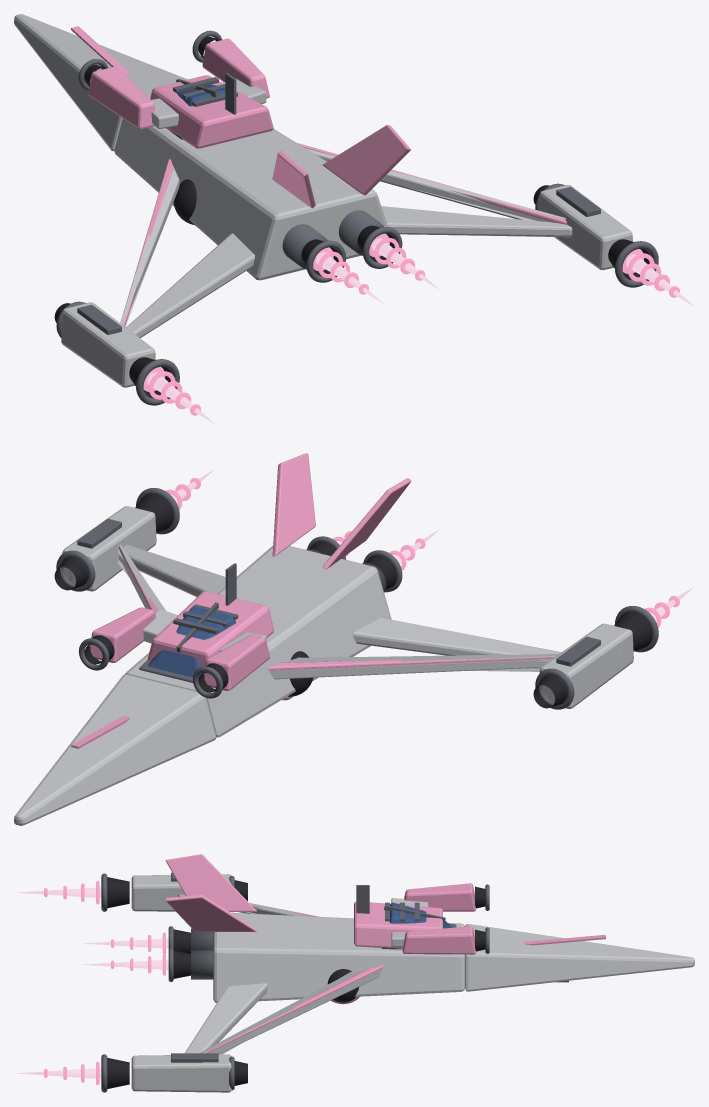
Rendered from ship2.glb.
The picture shows the model from 3 angles, top to bottom: view 1: azimuth 30°, elevation 25°; view 2: azimuth 150°, elevation 25°; view 3: azimuth 270°, elevation 25°; orthographic projection. The views are drawn at different scales.
Parts seen in each view (by area): view 1: Body, Nose, DorsalHump, WingRearL, WingRearR, NacelleL, NacelleR, FinR, PodL, WingFrontR, PodR, WingFrontL (+10 smaller); view 2: Body, Nose, WingRearL, WingFrontL, DorsalHump, NacelleL, FinR, NacelleR, WingRearR, PodL, PodR, Canopy (+11 smaller); view 3: Body, Nose, NacelleR, FinL, WingRearR, DorsalHump, WingFrontR, FinR, PodR, NacelleL, PodL, WingLeadR (+15 smaller).
Part boxes in pixels (box(x1,y1,x2,y2)): Body: box(114, 118, 387, 280); Nose: box(14, 14, 187, 151); DorsalHump: box(150, 75, 273, 148); WingRearL: box(126, 233, 254, 338); WingRearR: box(381, 206, 572, 237); NacelleL: box(61, 302, 155, 387); NacelleR: box(539, 185, 632, 270); FinR: box(322, 125, 410, 195); PodL: box(88, 66, 155, 129); WingFrontR: box(306, 148, 565, 222); PodR: box(202, 38, 269, 98); WingFrontL: box(120, 165, 179, 326); Body: box(125, 545, 391, 737); Nose: box(14, 674, 215, 825); WingRearL: box(353, 618, 561, 655); WingFrontL: box(269, 653, 621, 679); DorsalHump: box(147, 591, 273, 666); NacelleL: box(539, 623, 633, 708); FinR: box(272, 453, 315, 556); NacelleR: box(62, 506, 156, 591); WingRearR: box(123, 544, 225, 597); PodL: box(204, 634, 269, 690); PodR: box(90, 607, 155, 662); Canopy: box(148, 606, 235, 677); Body: box(213, 912, 465, 1002); Nose: box(465, 924, 694, 991); NacelleR: box(131, 1054, 231, 1092); FinL: box(165, 854, 256, 911); WingRearR: box(185, 983, 267, 1053); DorsalHump: box(354, 901, 442, 948); WingFrontR: box(153, 969, 382, 1085); FinR: box(165, 894, 257, 931); PodR: box(402, 926, 475, 954); NacelleL: box(131, 874, 231, 911); PodL: box(404, 883, 475, 911); WingLeadR: box(204, 965, 383, 1053).
Size of the model in its own units: 6.32 by 1.88 by 9.19.
